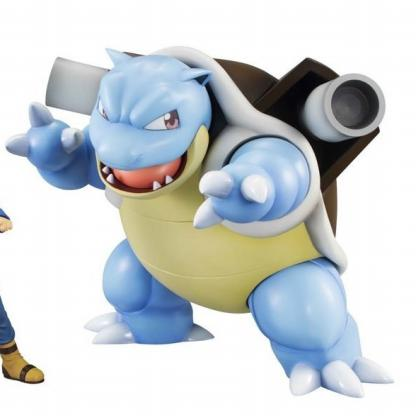Blastoise: (1, 34, 378, 372)
